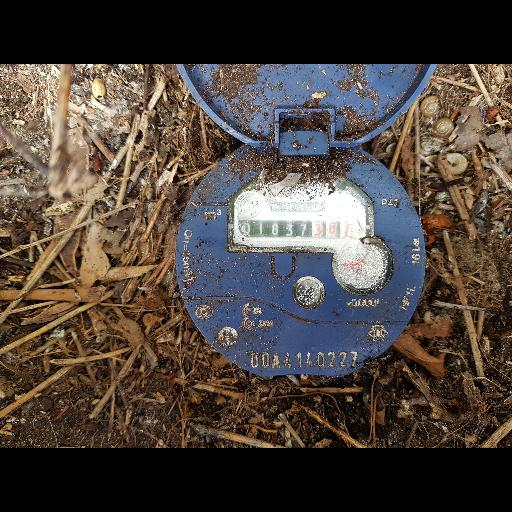0: (241, 221, 254, 238)
1: (253, 221, 266, 238)
3: (280, 220, 296, 238), (311, 220, 324, 238)
7: (296, 220, 312, 238), (339, 220, 353, 238)
8: (323, 221, 339, 239), (266, 219, 281, 237)
border_water_meter_number: (236, 216, 360, 239)
